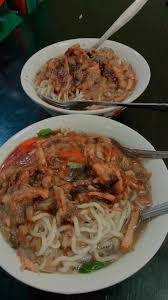Mie ayam: (0, 126, 152, 272), (32, 41, 130, 110)
